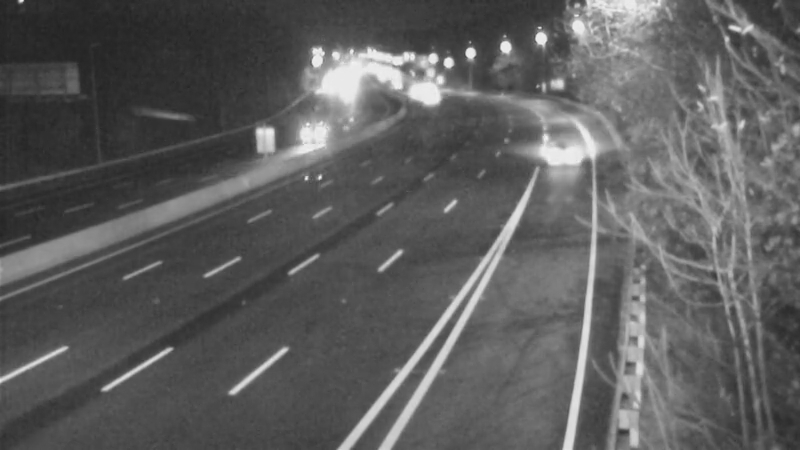vehicle: (517, 118, 597, 198), (406, 74, 456, 124), (285, 113, 335, 163)
